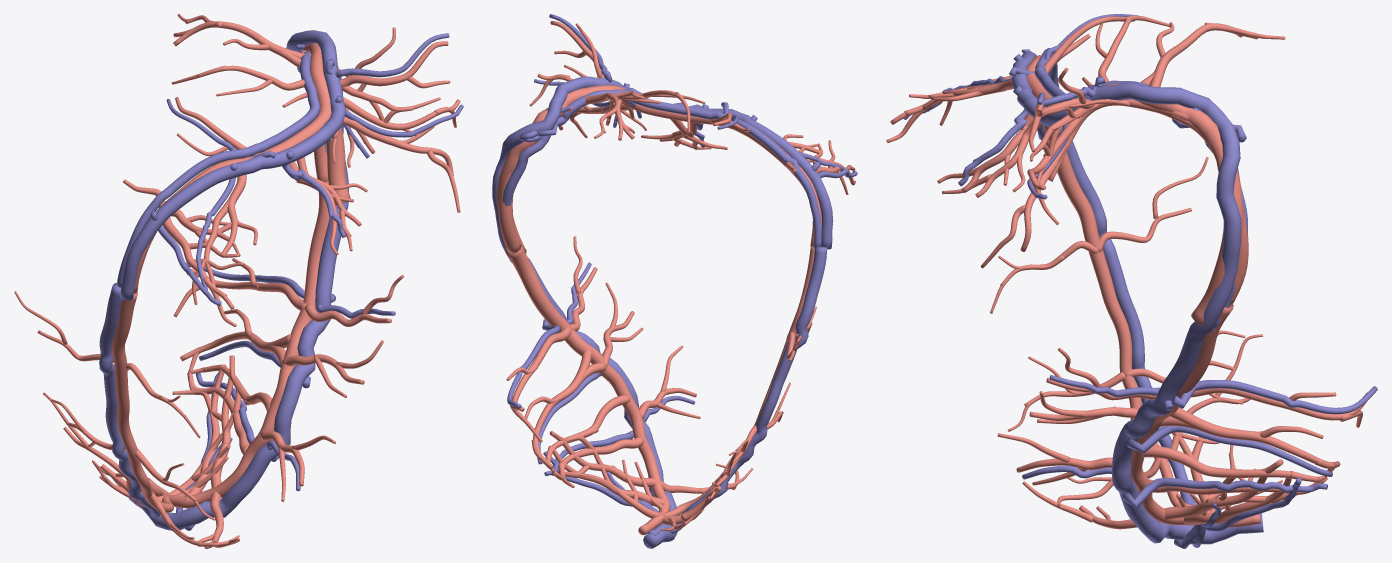
File: vessels_40.glb
The picture shows the model from 3 angles, left to right: view 1: azimuth 30°, elevation 25°; view 2: azimuth 150°, elevation 25°; view 3: azimuth 270°, elevation 25°; orthographic projection. The views are drawn at different scales.
Parts seen in each view (by area): view 1: Renderer Node; view 2: Renderer Node; view 3: Renderer Node.
Part boxes in pixels (box(x1,y1,x2,y2)): Renderer Node: box(14, 14, 463, 548); Renderer Node: box(492, 14, 857, 548); Renderer Node: box(886, 14, 1377, 548).
Size of the model in its own units: 94.55 by 122 by 95.3.
